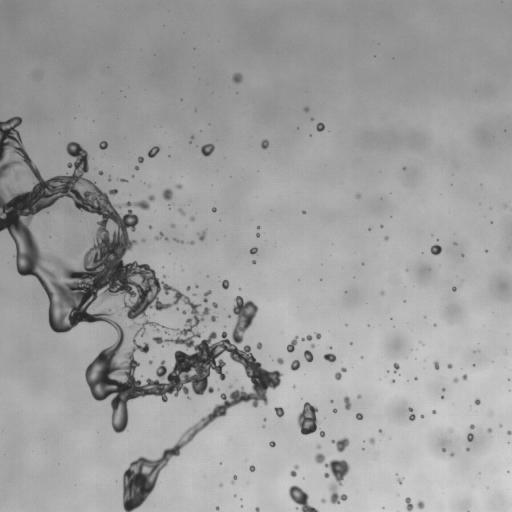droplet: (297, 402, 319, 435), (332, 438, 349, 452), (201, 143, 214, 156), (430, 243, 442, 255), (148, 146, 159, 157), (162, 188, 172, 200), (323, 353, 336, 362), (343, 396, 351, 410), (290, 359, 300, 370), (274, 406, 284, 417), (304, 350, 313, 362), (232, 73, 242, 83), (261, 139, 269, 149), (197, 230, 205, 240), (316, 122, 324, 131), (221, 280, 229, 289), (99, 141, 107, 149), (155, 232, 163, 240), (355, 412, 363, 420), (393, 363, 399, 373), (250, 247, 257, 254), (417, 501, 424, 508), (467, 433, 473, 441), (474, 398, 480, 405), (397, 477, 403, 484), (434, 361, 439, 369), (315, 333, 321, 339), (277, 358, 283, 364), (269, 441, 275, 447), (249, 465, 255, 471), (138, 156, 143, 163), (257, 342, 262, 349), (176, 184, 182, 189), (212, 302, 217, 308), (211, 315, 216, 321), (462, 374, 467, 380), (369, 437, 374, 443), (320, 430, 324, 437), (98, 170, 103, 175), (453, 377, 458, 382), (188, 240, 194, 244), (304, 107, 308, 112), (355, 194, 360, 198), (212, 207, 216, 212), (190, 216, 194, 221), (447, 364, 452, 368), (470, 424, 474, 429), (507, 430, 511, 435), (321, 498, 325, 503), (121, 178, 127, 181), (135, 166, 139, 170), (302, 210, 306, 214), (186, 286, 190, 290), (452, 287, 456, 291), (182, 310, 186, 314), (310, 343, 314, 347), (148, 360, 152, 364), (357, 394, 361, 398), (333, 408, 337, 412), (378, 429, 382, 433), (255, 507, 259, 511), (164, 237, 168, 240), (385, 236, 388, 240), (391, 379, 394, 383), (432, 410, 436, 413), (488, 428, 491, 432), (317, 444, 320, 448), (441, 448, 445, 451), (450, 452, 453, 456), (171, 224, 174, 227), (256, 233, 259, 236), (380, 292, 383, 295), (216, 506, 219, 509), (19, 171, 22, 173), (108, 177, 110, 180), (504, 204, 506, 207), (380, 225, 383, 227), (257, 226, 260, 228), (454, 242, 456, 245), (252, 261, 255, 263), (195, 285, 198, 287), (229, 385, 232, 387), (420, 415, 423, 417), (263, 418, 266, 420), (466, 448, 469, 450), (191, 136, 193, 138), (403, 167, 405, 169), (149, 226, 151, 228), (369, 228, 371, 230), (142, 239, 144, 241), (350, 342, 352, 344), (474, 350, 476, 352), (415, 377, 417, 379), (441, 396, 443, 398)
ligament: (0, 119, 283, 511), (314, 453, 349, 504), (288, 485, 319, 511), (287, 336, 298, 352), (334, 367, 346, 380), (405, 497, 413, 511), (203, 290, 211, 303), (290, 464, 298, 476), (408, 407, 415, 420), (301, 335, 312, 340), (178, 208, 185, 215), (173, 238, 182, 243), (231, 476, 236, 483)
